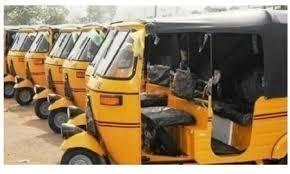keke: (57, 14, 287, 164)
